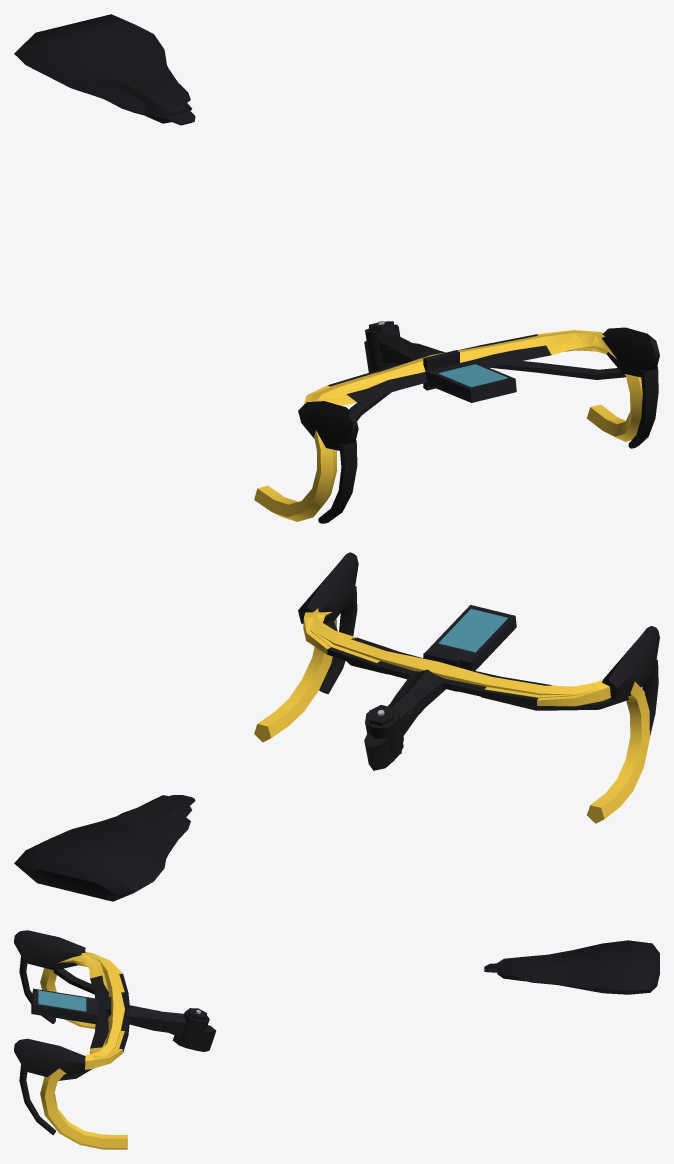
The model's file is parts_lod1.glb.
3 views of the same model, one above another, from view 1: azimuth 30°, elevation 25°; view 2: azimuth 150°, elevation 25°; view 3: azimuth 270°, elevation 25° (orthographic). The views are drawn at different scales.
Parts seen in each view (by area): view 1: cockpit_classic, saddle_comfort, cockpit_aero, cockpit_wing, saddle_aero; view 2: cockpit_classic, saddle_comfort, cockpit_aero, cockpit_wing, saddle_aero; view 3: cockpit_classic, saddle_comfort, cockpit_aero, cockpit_wing, saddle_aero.
Boxes of the visible parts, <box> form: cockpit_classic: <box>298,321,659,523</box>; saddle_comfort: <box>14,14,192,123</box>; cockpit_aero: <box>254,331,642,521</box>; cockpit_wing: <box>304,330,625,420</box>; saddle_aero: <box>58,65,190,115</box>; cockpit_classic: <box>254,552,659,823</box>; saddle_comfort: <box>14,795,191,901</box>; cockpit_aero: <box>254,608,649,823</box>; cockpit_wing: <box>303,612,628,710</box>; saddle_aero: <box>117,808,190,859</box>; cockpit_classic: <box>14,930,209,1148</box>; saddle_comfort: <box>497,940,659,994</box>; cockpit_aero: <box>40,952,216,1149</box>; cockpit_wing: <box>53,953,129,1080</box>; saddle_aero: <box>515,971,595,988</box>.
Size of the model in its own units: 0.4652 by 0.232 by 1.01.
